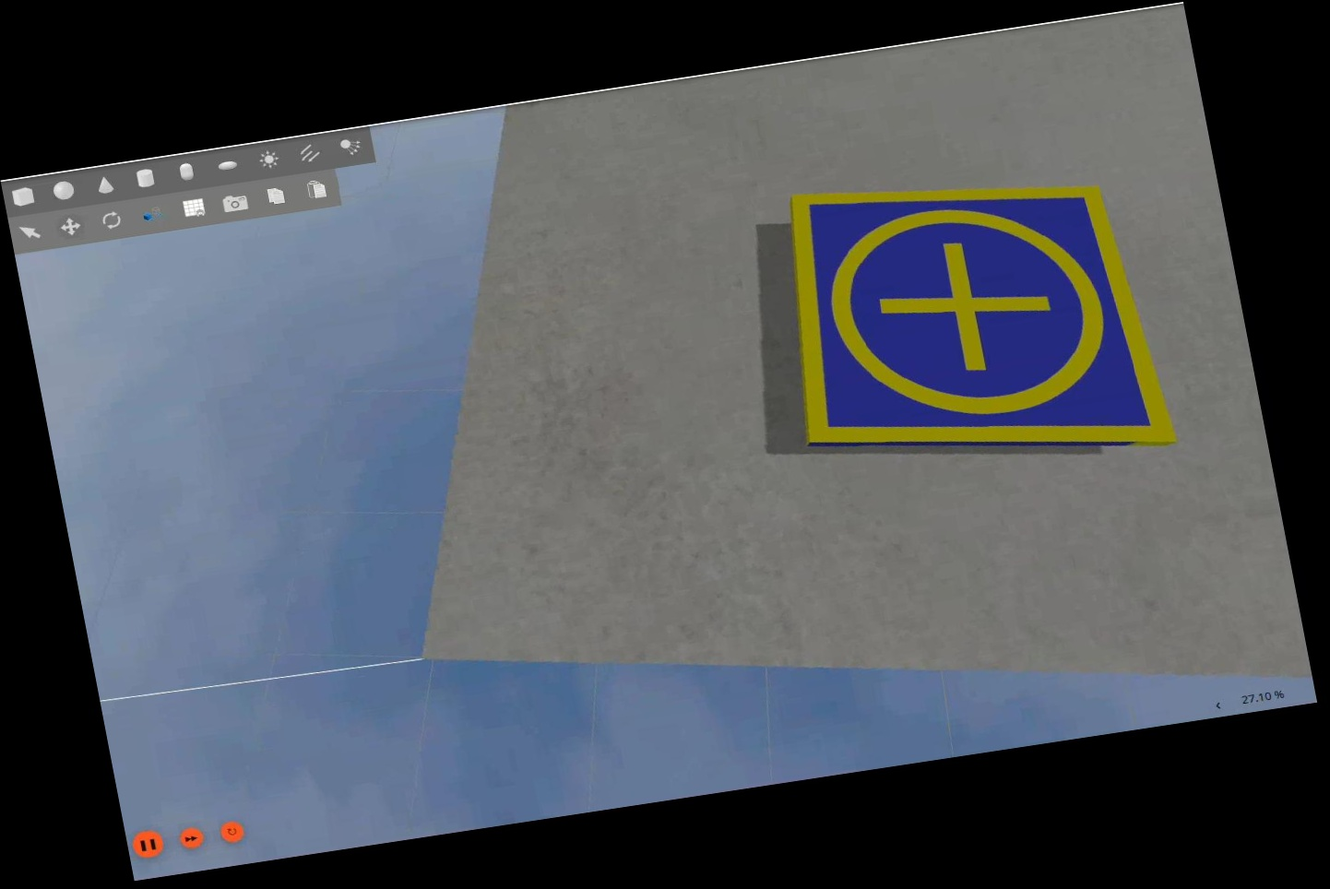small_base: (760, 141, 1184, 501)
